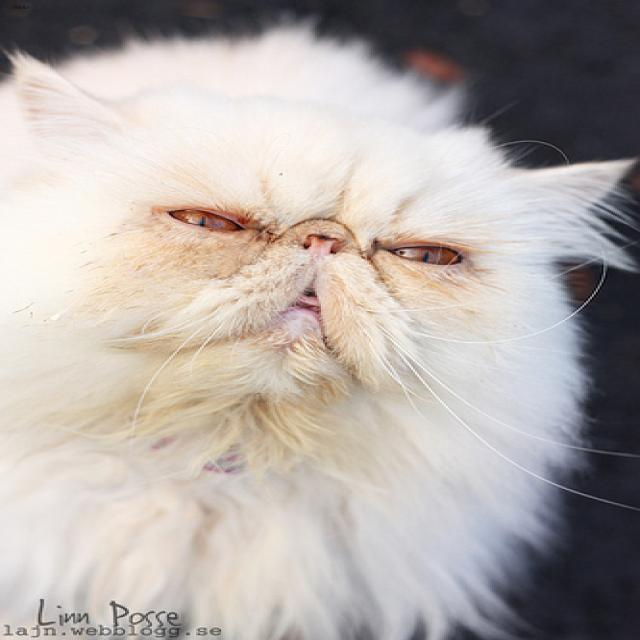cat: (0, 52, 628, 392)
